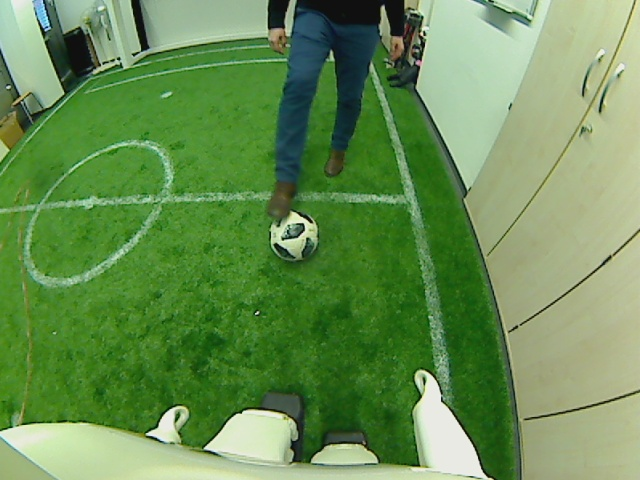ball: (268, 206, 319, 264)
